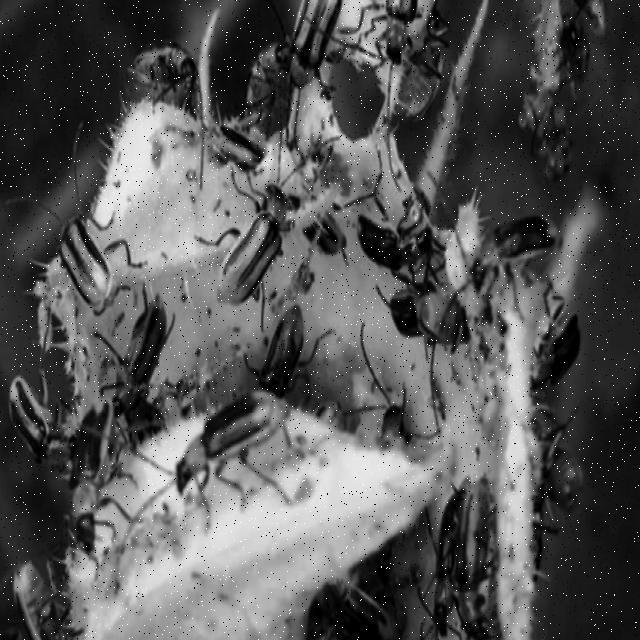trips: (4, 117, 146, 311), (432, 174, 564, 318), (195, 169, 301, 334), (178, 388, 294, 526), (66, 410, 140, 582), (126, 42, 204, 190), (93, 294, 175, 418), (244, 304, 336, 410), (416, 462, 466, 640), (360, 147, 432, 269), (262, 0, 346, 96), (459, 475, 502, 640), (10, 379, 76, 475), (339, 0, 424, 69), (13, 561, 81, 640), (532, 291, 582, 388), (244, 40, 290, 135), (214, 106, 274, 170)
